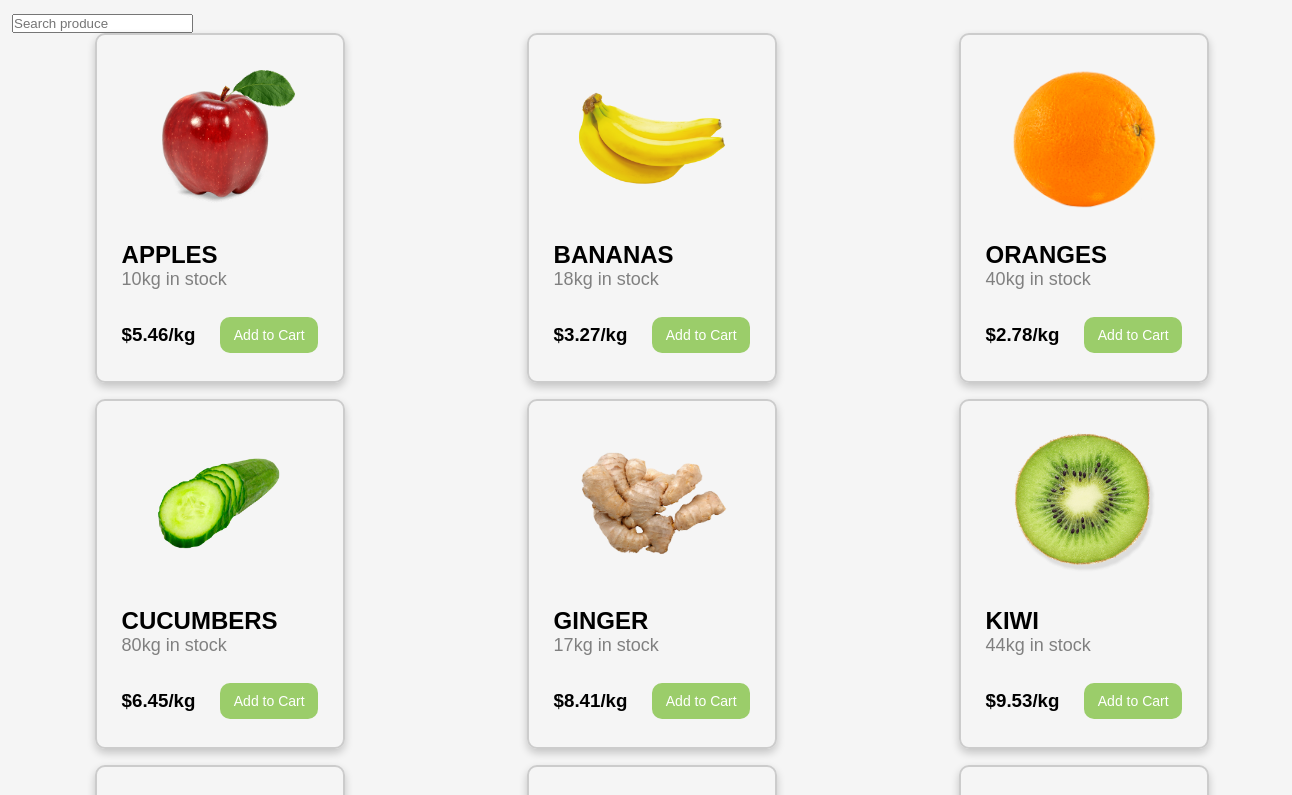
Test: Store › Rendes a heading with the text (Sorry, no produce match your search.) if the users search does not match a produce in store.
Type "AAAAAAAAAA" into the field with placeholder "Search produce" at [102, 24], box [12,14,193,33]
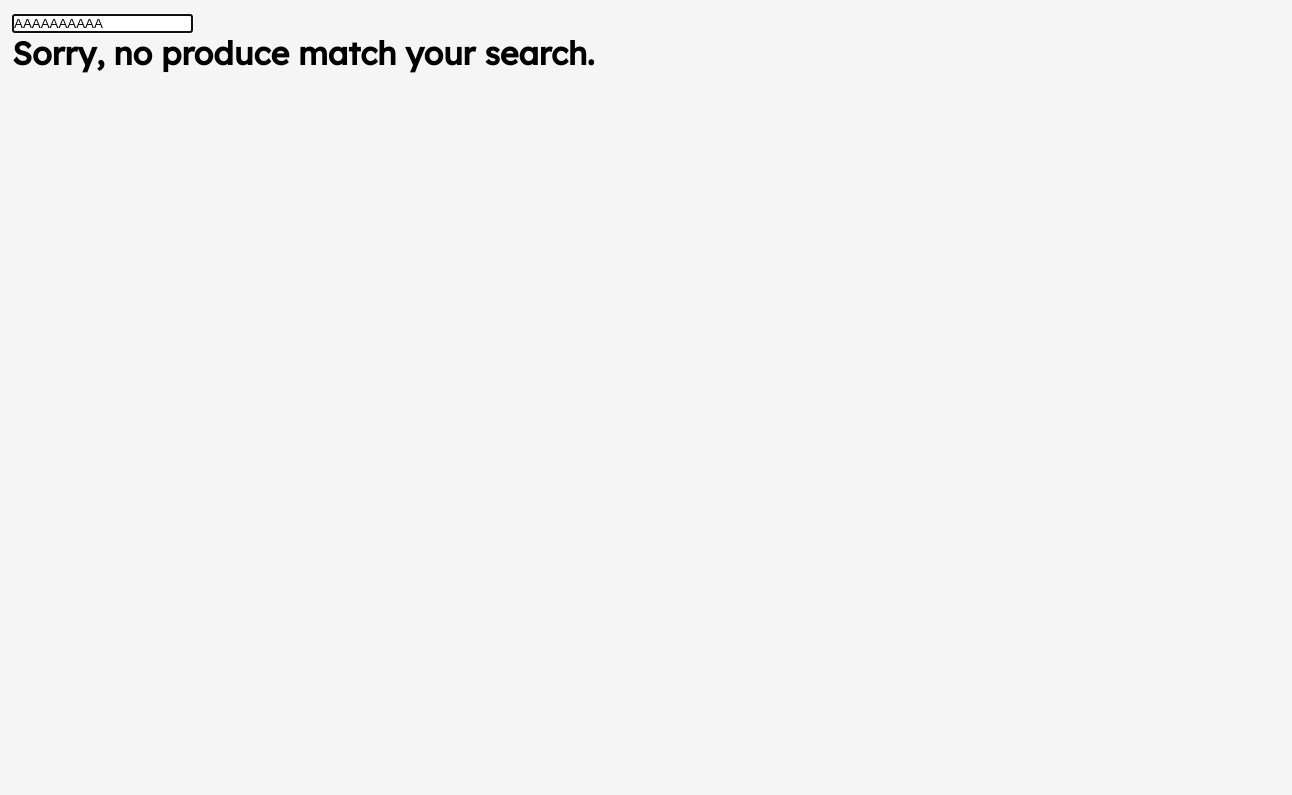
Expected: the heading reads "Sorry, no produce match your search.", [12,33,594,73]
